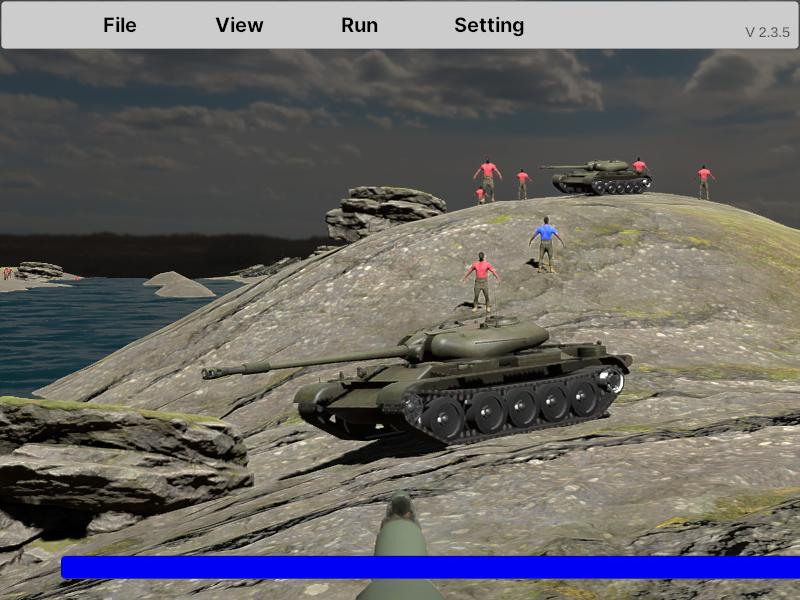Human: (462, 251, 501, 317), (529, 216, 565, 274), (473, 155, 503, 211)
Tank: (202, 316, 632, 448), (539, 160, 652, 196)
